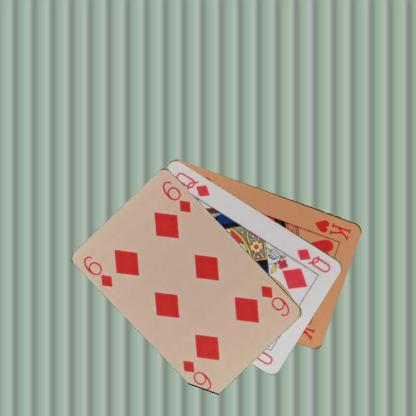6d: (258, 283, 292, 318), (81, 253, 114, 288)
Kh: (312, 217, 352, 242)
Qd: (295, 245, 332, 274)
